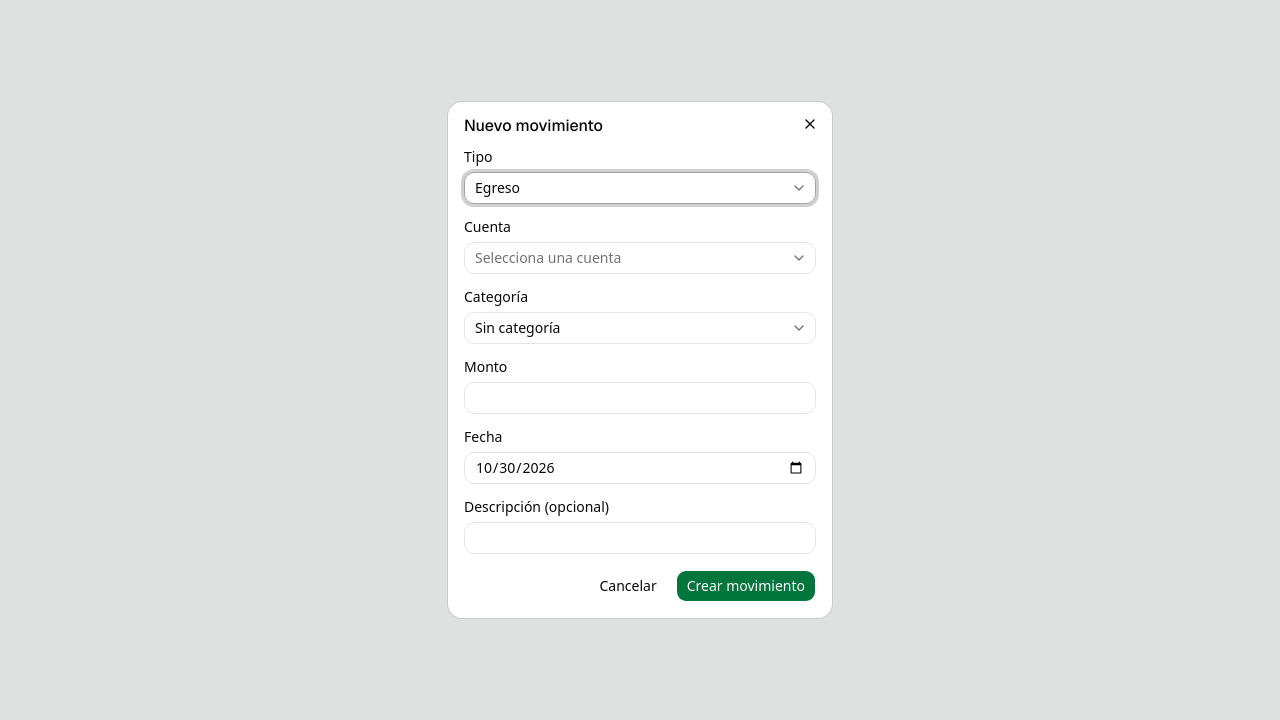
it: TransactionFormModal › muestra los campos y valida cuenta y monto requeridos
Expected: the dropdown named "Tipo" is shown, 464,172 -> 816,204
Expected: the dropdown labelled "cuenta" is shown, 464,242 -> 816,274
Click the button "Crear movimiento": [746, 586] box 676,570 -> 816,602
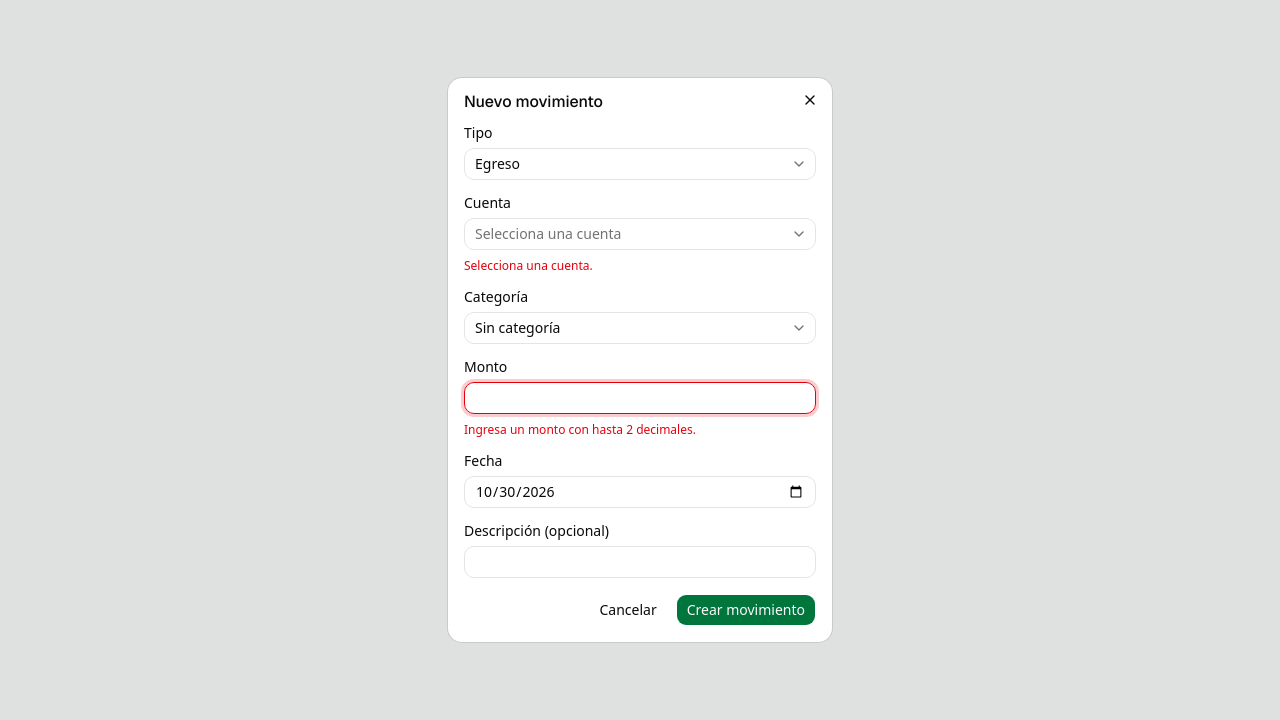
Now the text "Selecciona una cuenta." is shown, box 464,257 -> 593,274
Now the text "Ingresa un monto con hasta 2 decimales." is shown, box 464,421 -> 696,438
